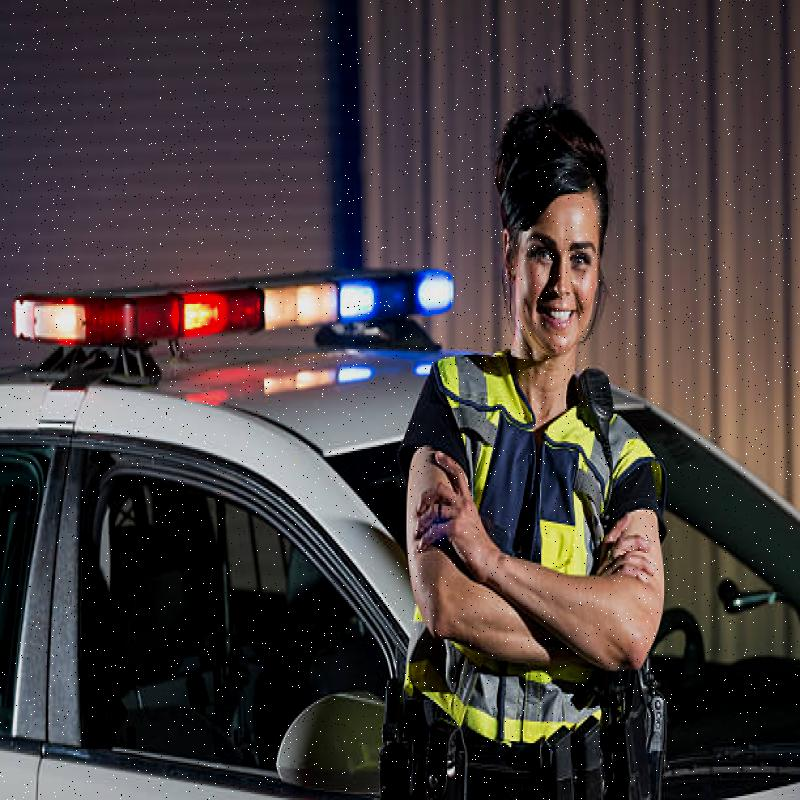AmbulanceSiren: (0, 243, 487, 361)
